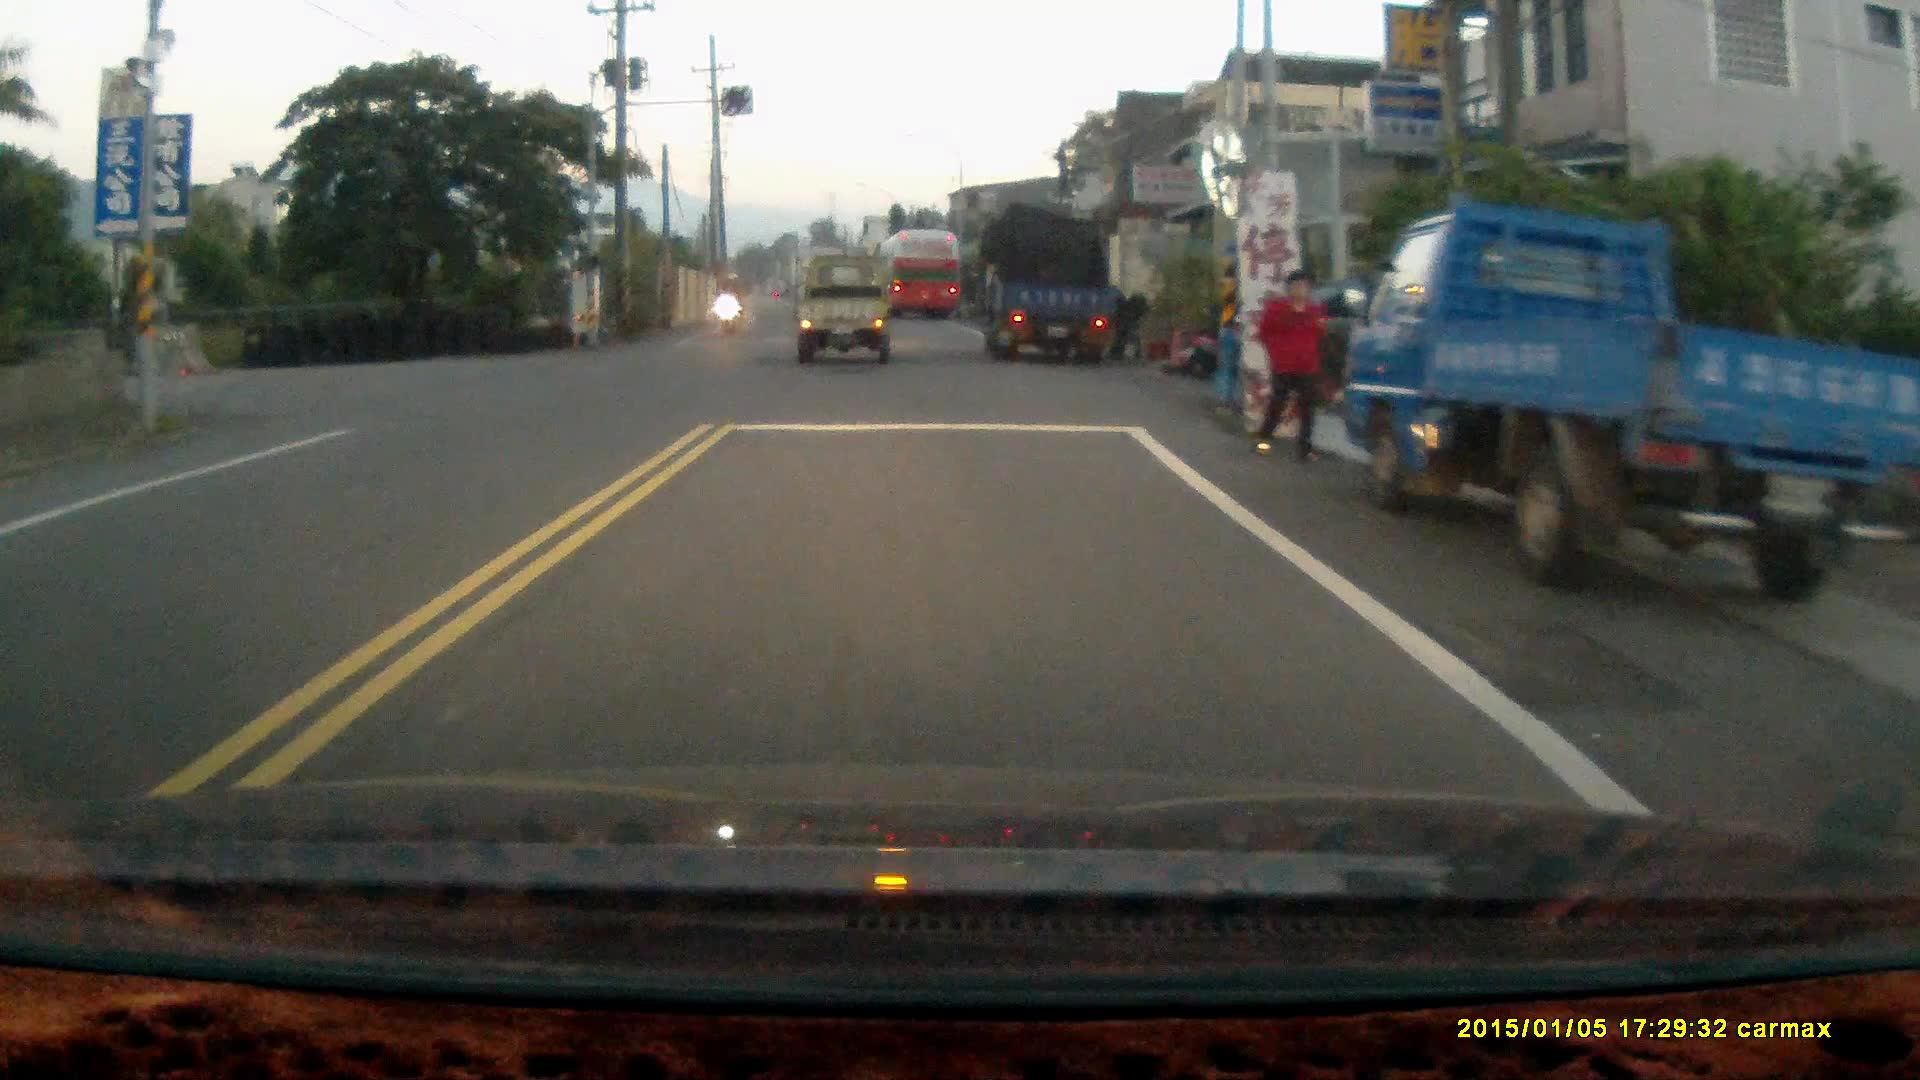pedestrian: (1249, 267, 1329, 468)
rider: (713, 273, 741, 337)
vehicle: (1347, 197, 1920, 590), (986, 215, 1141, 382), (802, 261, 899, 373), (881, 230, 968, 325)
